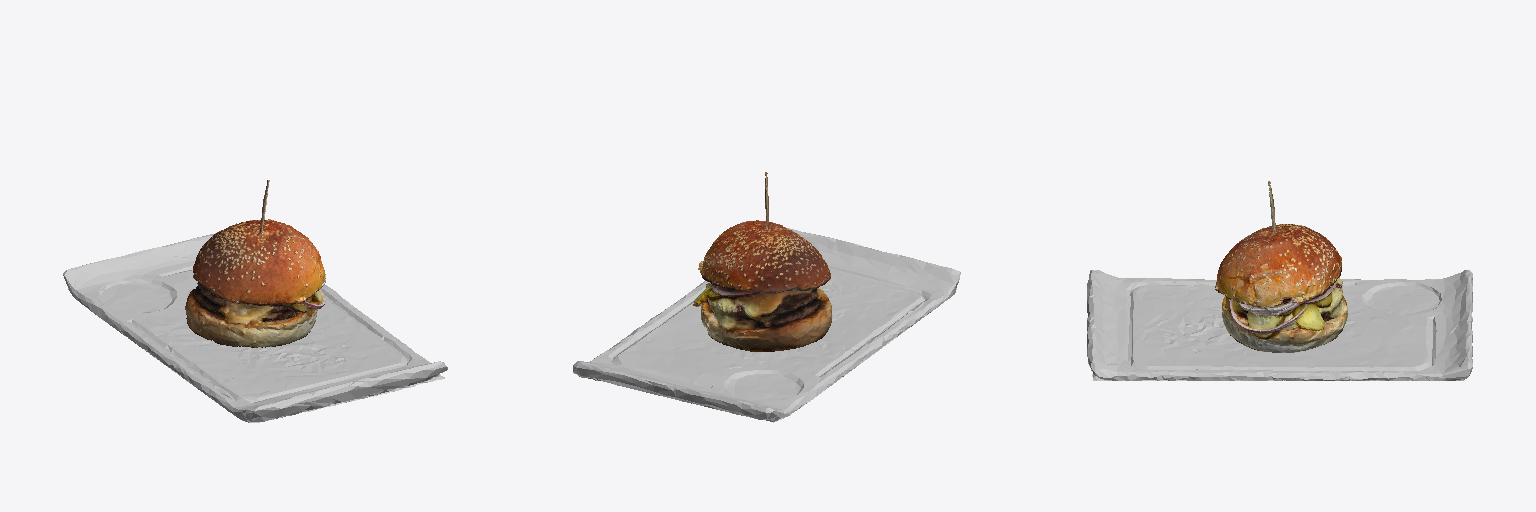
The picture shows the model from 3 angles: view 1: azimuth 30°, elevation 25°; view 2: azimuth 150°, elevation 25°; view 3: azimuth 270°, elevation 25°; orthographic projection.
Parts seen in each view (by area): view 1: mmGroup0; view 2: mmGroup0; view 3: mmGroup0.
Boxes of the visible parts, x1,y1,x2,y2 form: mmGroup0: [63, 180, 447, 422]; mmGroup0: [573, 172, 960, 422]; mmGroup0: [1087, 181, 1472, 380].
Bounding box in the file's own units: 0.1828 × 0.1339 × 0.3.
Materials: 2 (1 with a texture image).